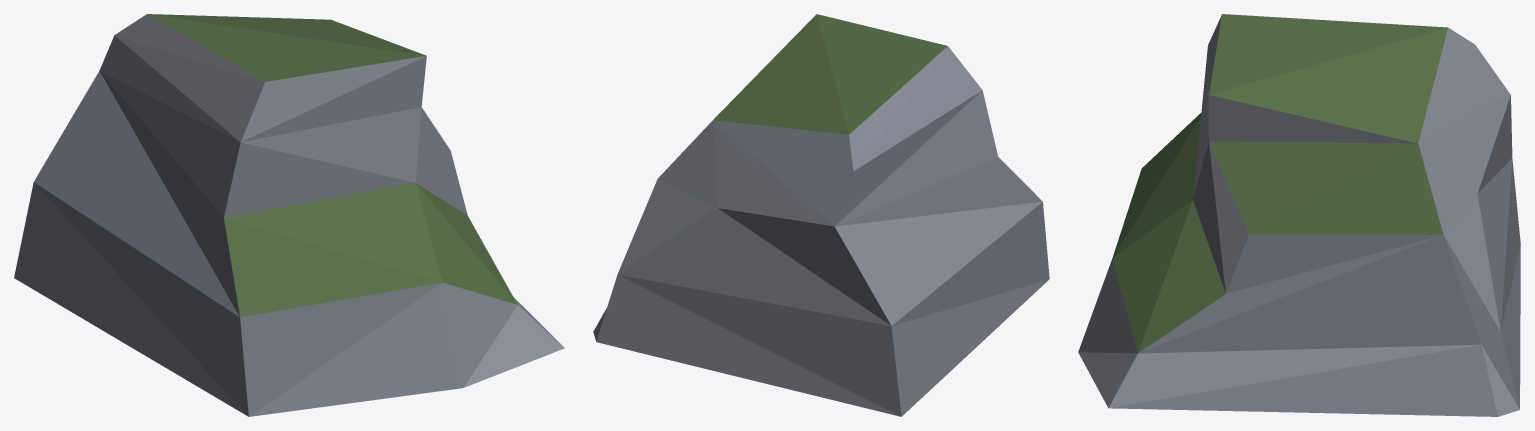
Rendered from Rock_Moss_3.lod3.glb.
3 views of the same model, side by side, from view 1: azimuth 30°, elevation 25°; view 2: azimuth 150°, elevation 25°; view 3: azimuth 270°, elevation 25° (orthographic). The views are drawn at different scales.
Parts seen in each view (by area): view 1: Rock_Moss_3; view 2: Rock_Moss_3; view 3: Rock_Moss_3.
Part boxes in pixels (x1=…): Rock_Moss_3: x1=14, y1=14, x2=564, y2=416; Rock_Moss_3: x1=593, y1=14, x2=1049, y2=416; Rock_Moss_3: x1=1078, y1=14, x2=1520, y2=416.
Bounding box in the file's own units: 0.7394 × 0.5567 × 0.8024.
